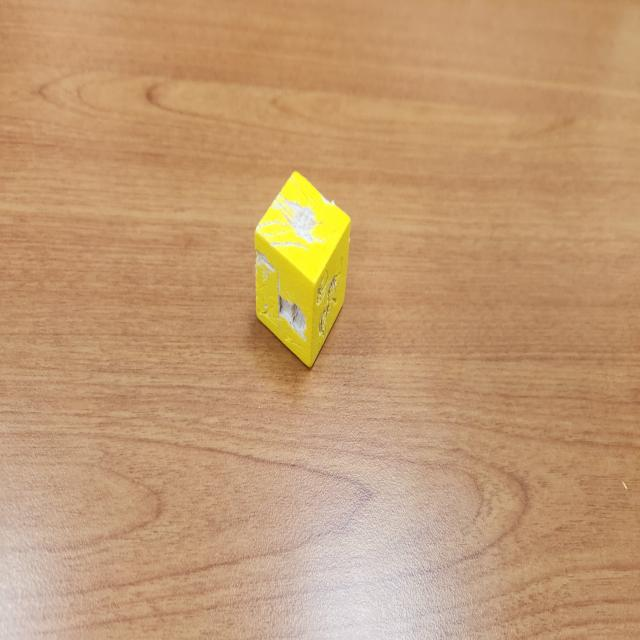broken: (255, 172, 351, 370)
